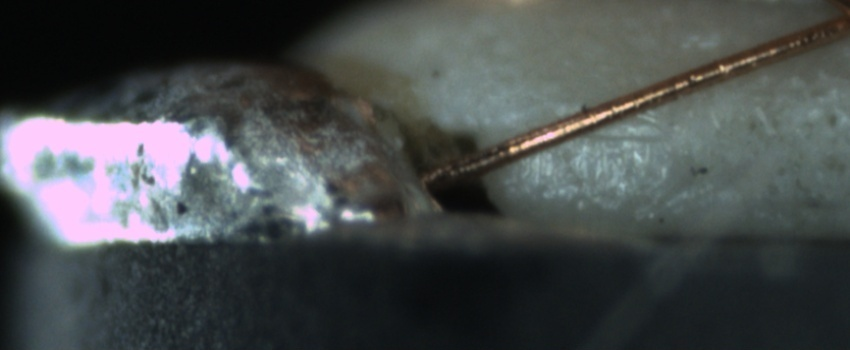CL: (806, 2, 849, 42)
DL: (532, 110, 670, 163)
